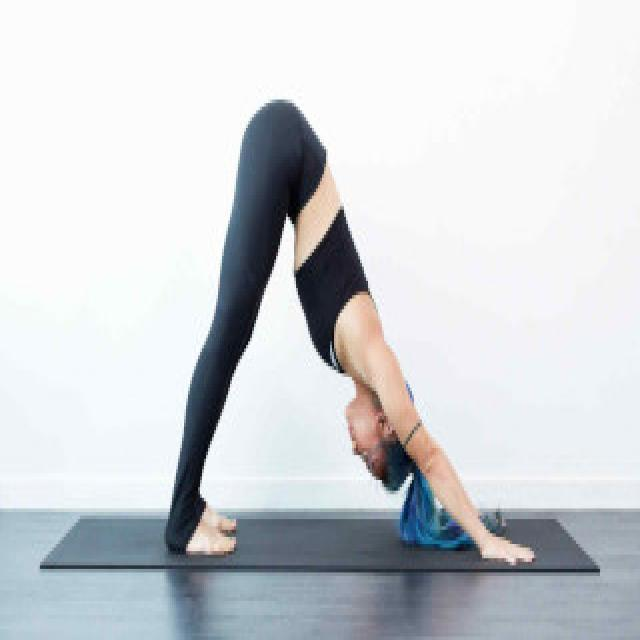yoga-pose downward: (169, 90, 517, 558)
